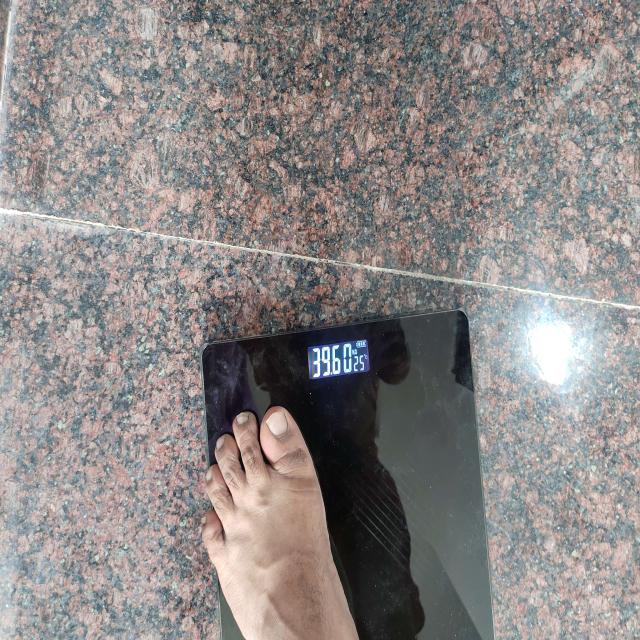ws: (202, 316, 484, 640)
